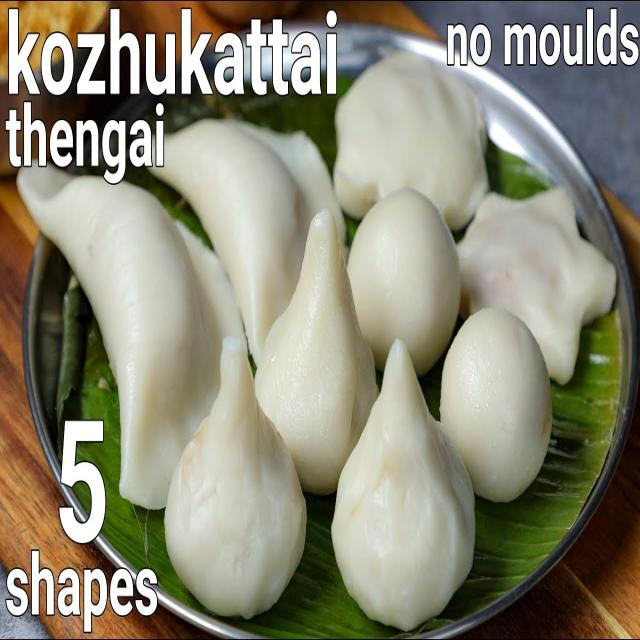poorna kolukattai: (23, 128, 624, 608)
